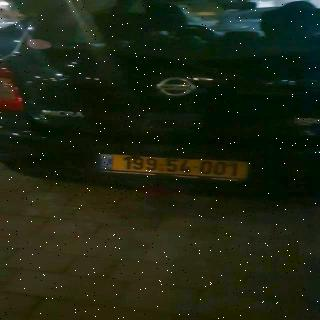LicensePlate: (113, 155, 249, 178)
